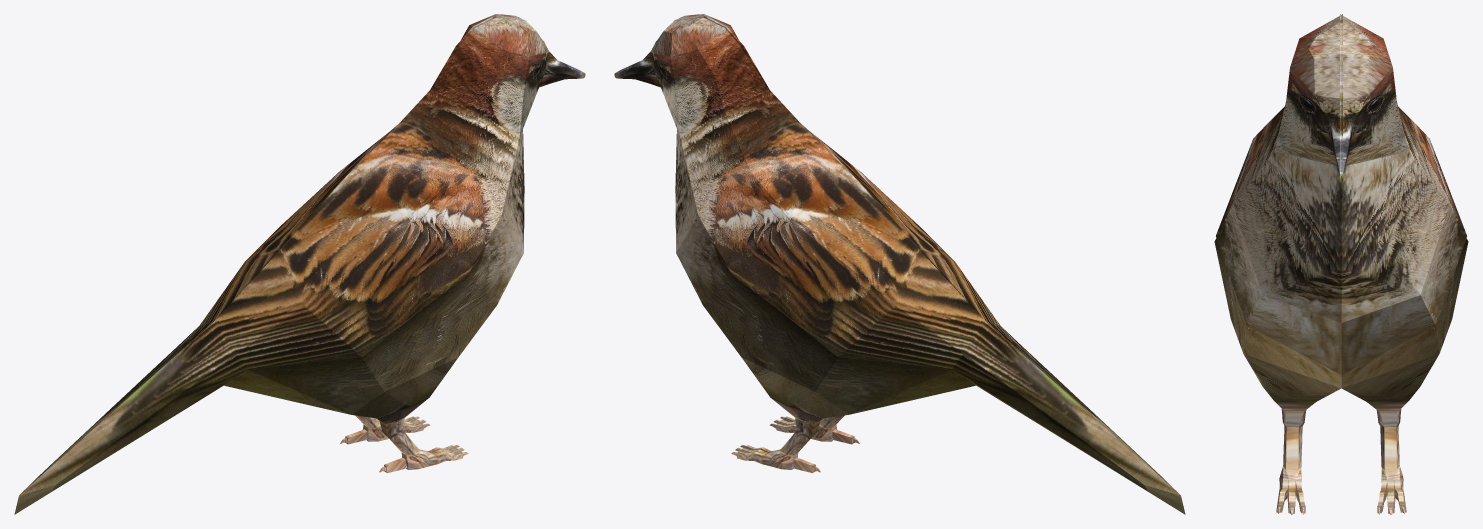
File: housesparrow.fbx
3 views of the same model, side by side, from view 1: azimuth 30°, elevation 25°; view 2: azimuth 150°, elevation 25°; view 3: azimuth 270°, elevation 25° (orthographic). The views are drawn at different scales.
Parts seen in each view (by area): view 1: Cube; view 2: Cube; view 3: Cube.
Boxes of the visible parts, box(x1,y1,x2,y2) form: Cube: box(14, 14, 585, 514); Cube: box(614, 14, 1185, 514); Cube: box(1214, 14, 1468, 514).
Bounding box in the file's own units: 202 × 139 × 60.35.
Materials: 1 (1 with a texture image).
